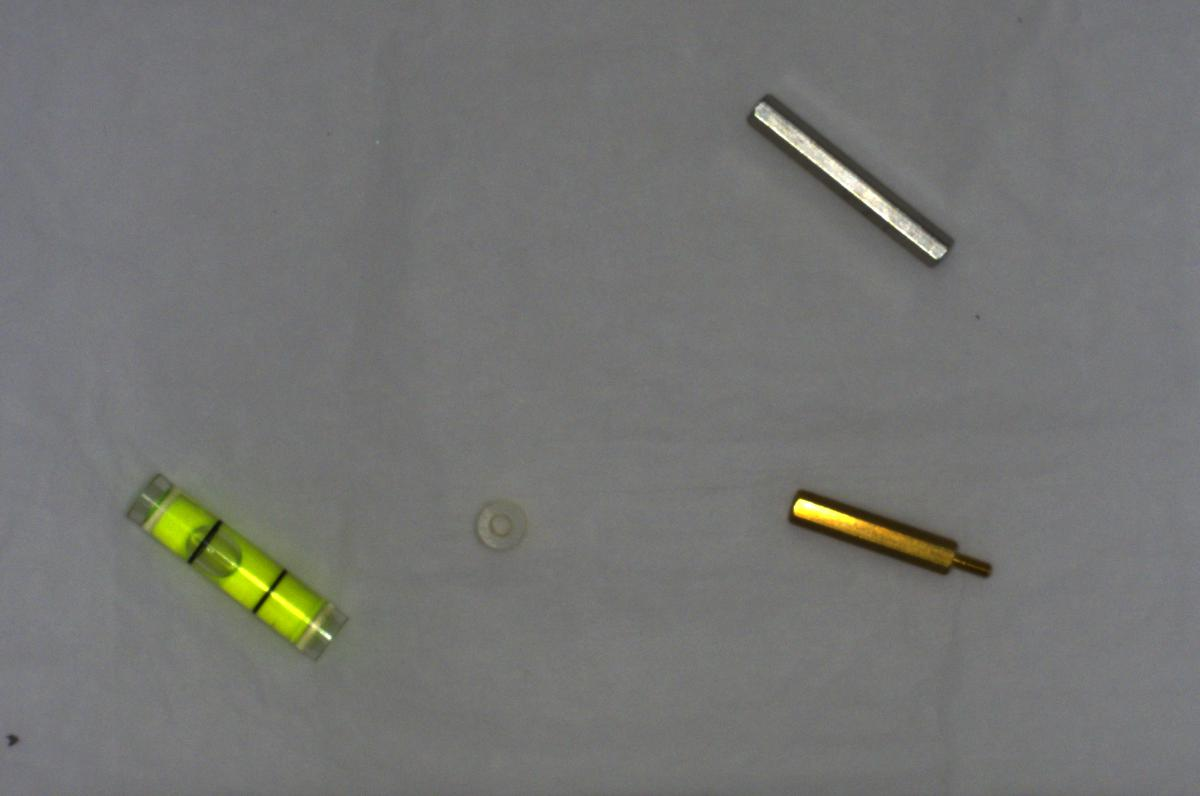Hexagon pillar: (775, 481, 1002, 593)
Hexagonal steel column: (738, 83, 961, 279)
Horizontal bubble: (115, 466, 355, 665)
Plastic cushion pillar: (468, 489, 532, 560)
